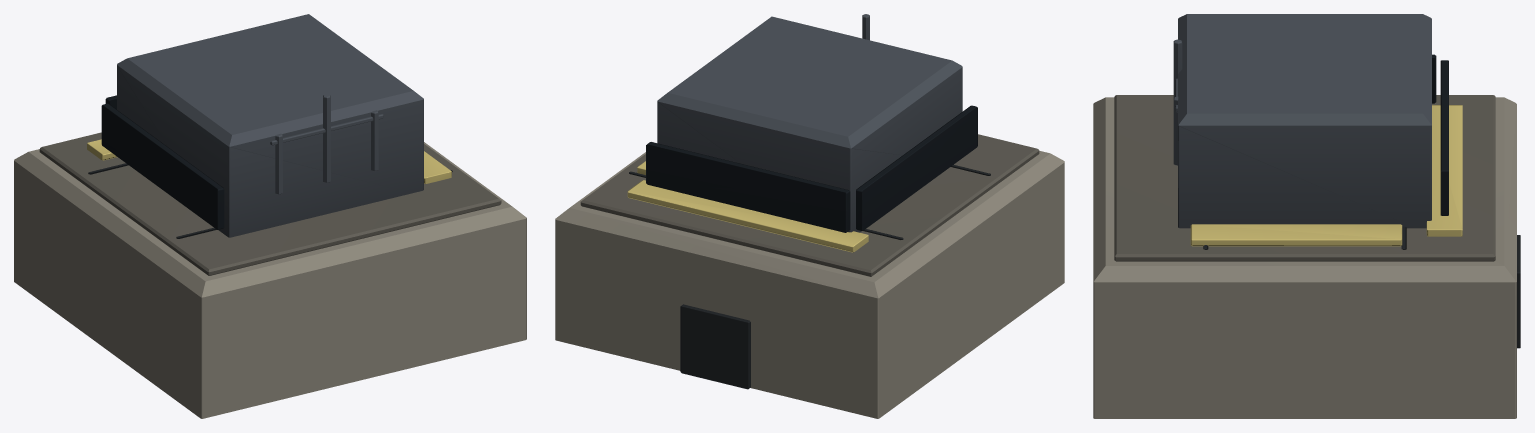
The model's file is tech_center.glb.
3 renders of one model, left to right at view 1: azimuth 30°, elevation 25°; view 2: azimuth 150°, elevation 25°; view 3: azimuth 270°, elevation 25°, orthographic. The views are drawn at different scales.
Parts seen in each view (by area): view 1: Body; view 2: Body; view 3: Body.
Boxes of the visible parts, x1,y1,x2,y2 form: Body: (14,14,526,418); Body: (555,14,1064,418); Body: (1093,14,1520,418).
Bounding box in the file's own units: 7.5 × 5.65 × 7.57.
